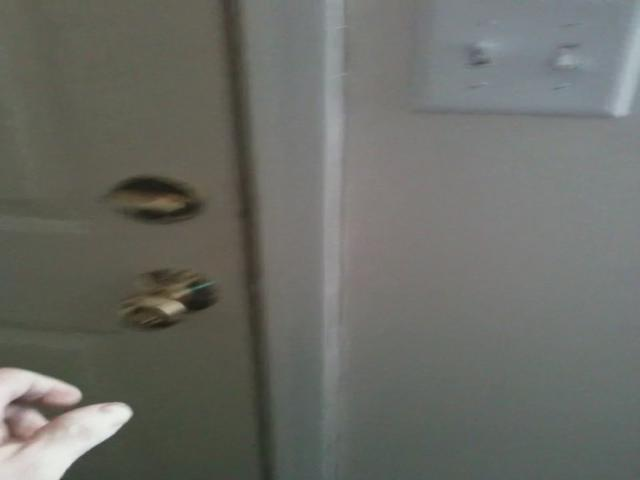Door-handle: (111, 268, 224, 328)
